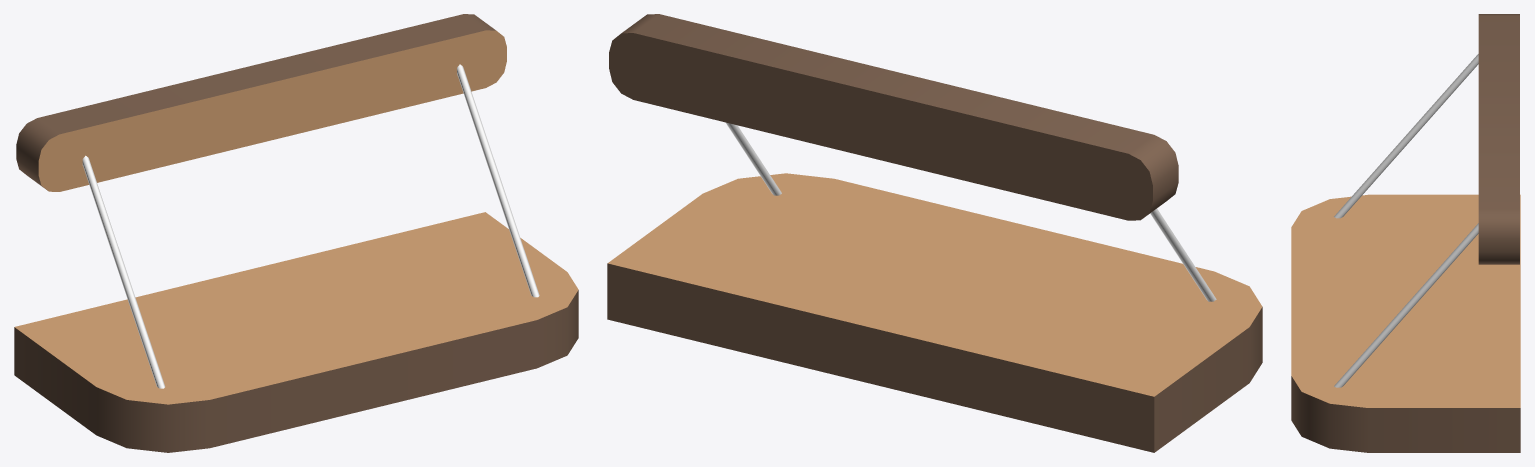
Rendered from test_shelf1.fbx.
The picture shows the model from 3 angles, left to right: view 1: azimuth 30°, elevation 25°; view 2: azimuth 150°, elevation 25°; view 3: azimuth 270°, elevation 25°; orthographic projection. The views are drawn at different scales.
Visible parts, largest first — view 1: Cylinder.001; view 2: Cylinder.001; view 3: Cylinder.001.
Part boxes in pixels (bbox=[...]): Cylinder.001: bbox=[14, 14, 578, 452]; Cylinder.001: bbox=[607, 14, 1262, 452]; Cylinder.001: bbox=[1291, 14, 1520, 452].
Size of the model in its own units: 186 by 95.2 by 84.64.
